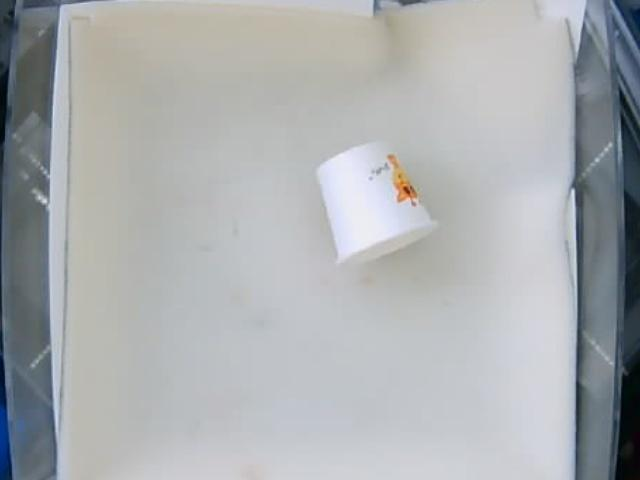Cup: (320, 141, 435, 260)
